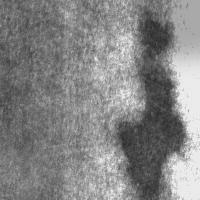patches: (119, 54, 187, 199), (123, 0, 200, 57), (0, 128, 60, 200), (135, 10, 175, 85)
